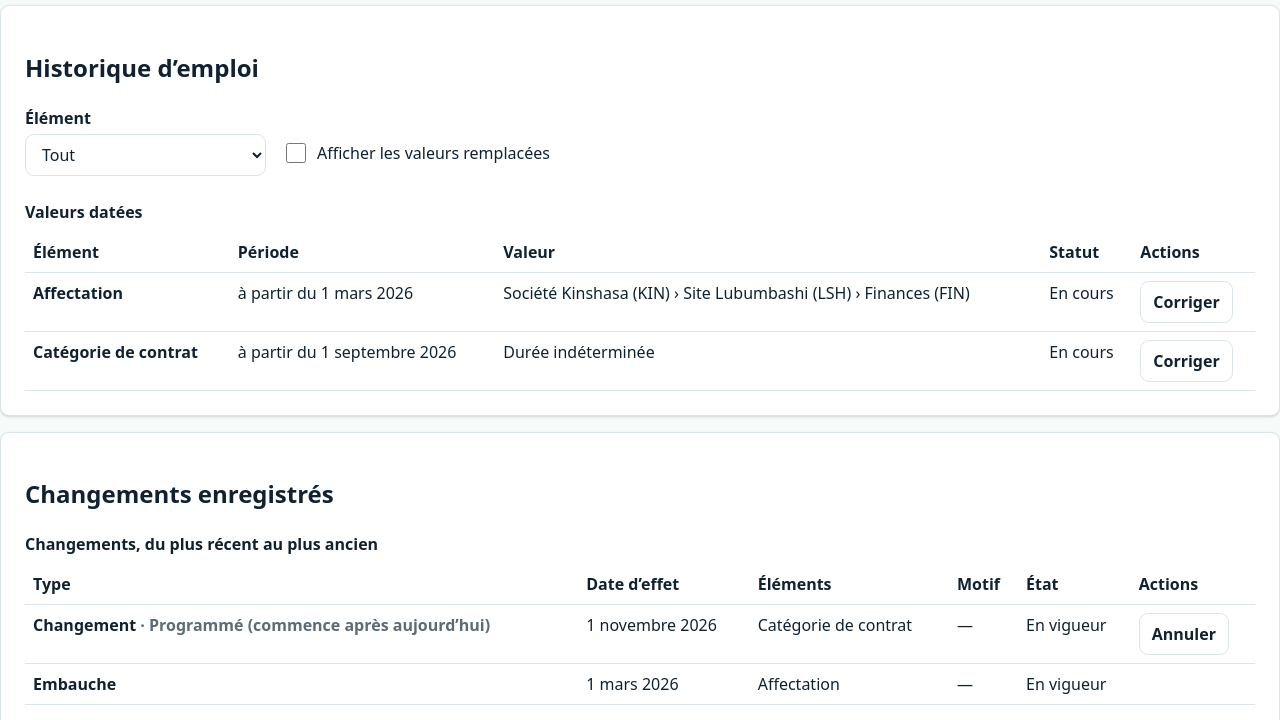
Scenario: employment history (fr) › corrects one row for its own dates
(page scrolled)
Click the button with aria-label "Catégorie de contrat".
click(1186, 360)  # box [1140,340,1233,382]
(page scrolled)
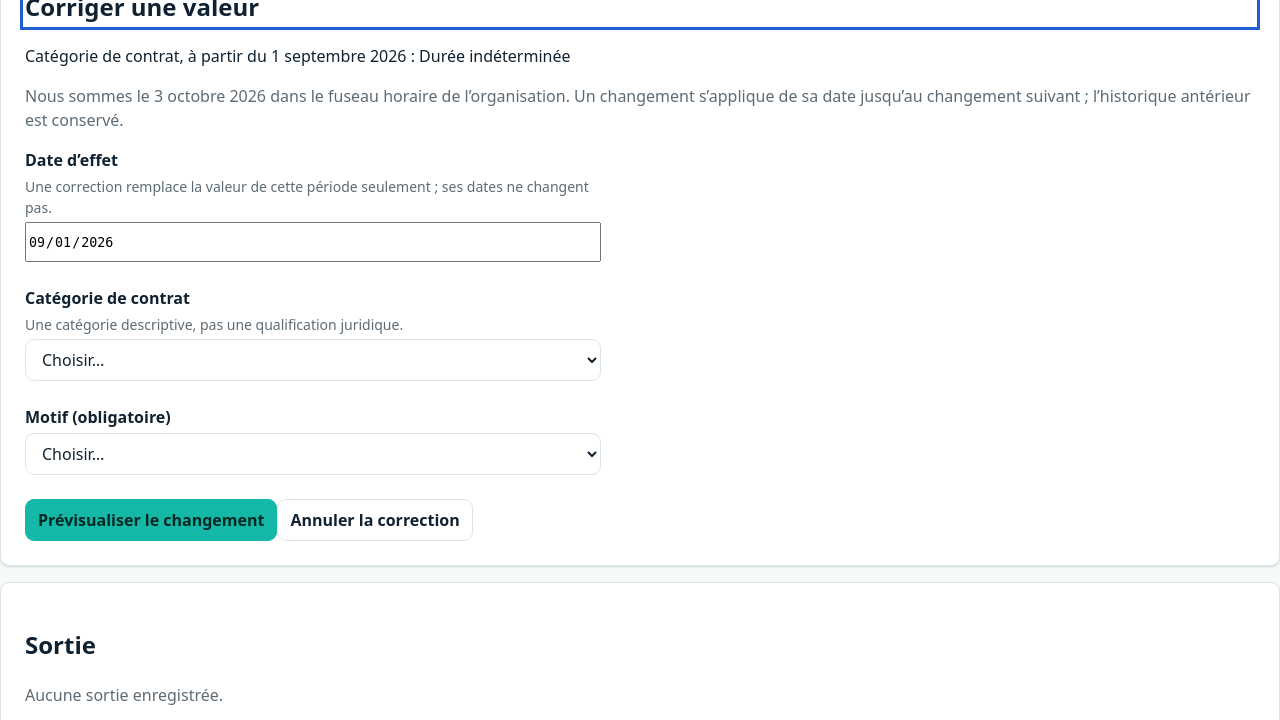
Check: the date field labelled "Date d’effet" holds "2026-09-01", box [25,222,601,262]
Select "Stage" in the dropdown labelled "Catégorie de contrat" at (313, 360), box [25,339,601,381]
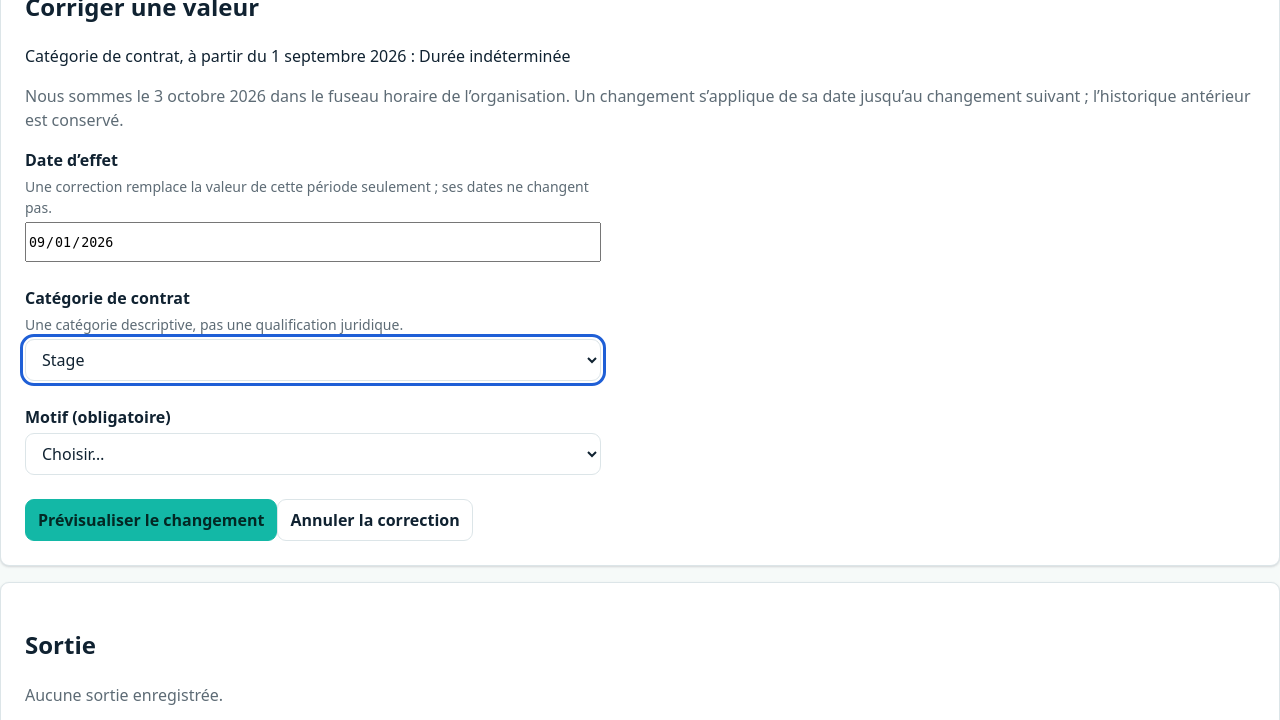
Select "Erreur de saisie" in the dropdown labelled "Motif (obligatoire)" at (313, 454), box [25,433,601,475]
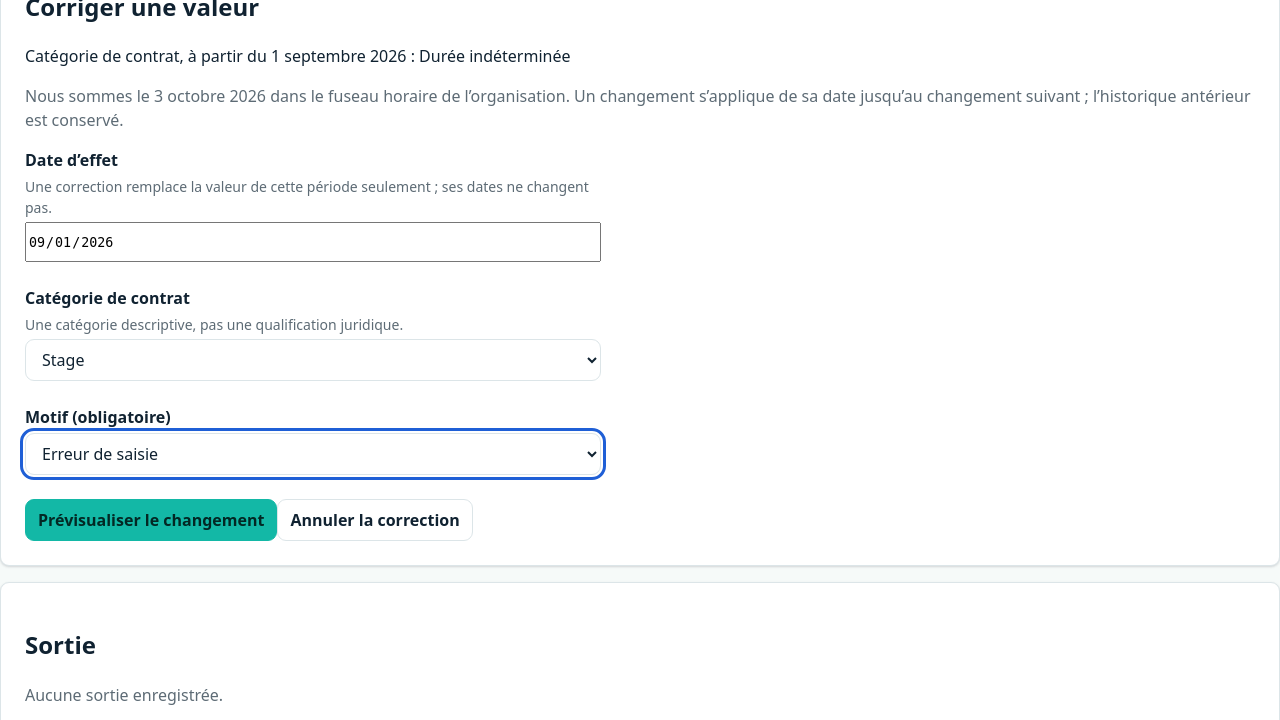
Click the button "Prévisualiser le changement".
click(151, 520)  # box [25,499,278,541]
(page scrolled)
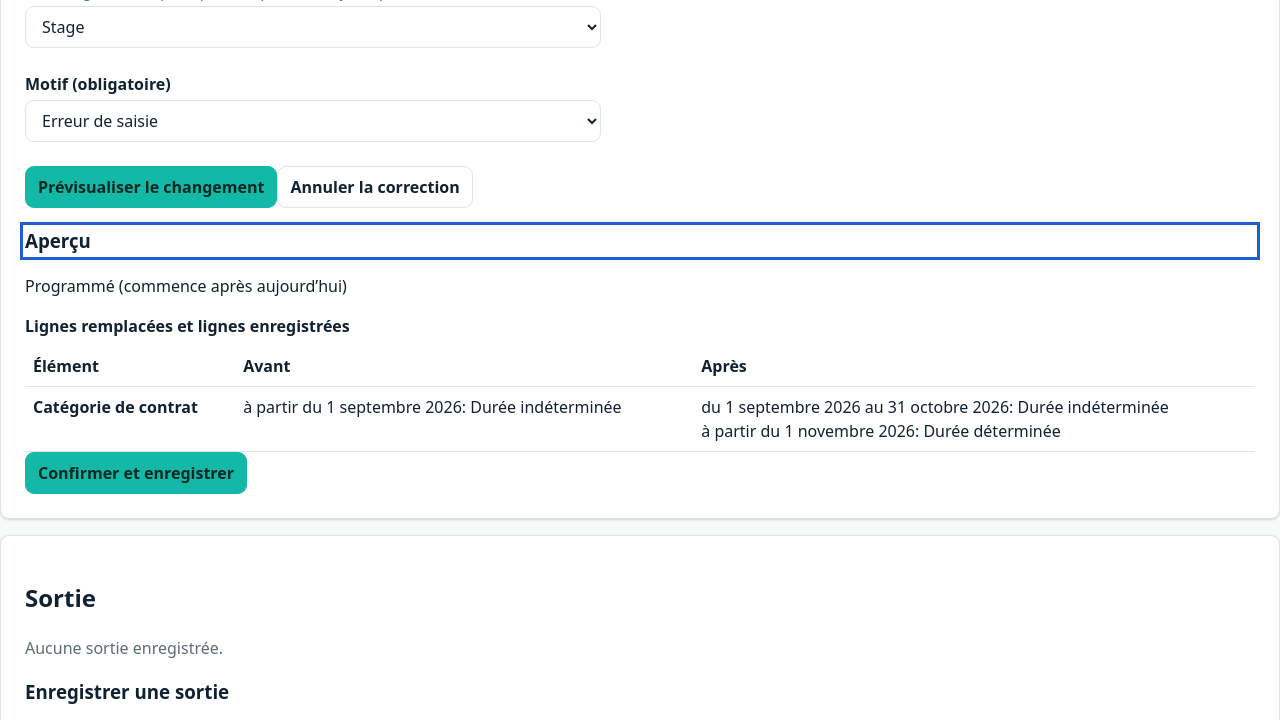
Check: the element with test id "change-preview" is shown, box [25,227,1255,494]
